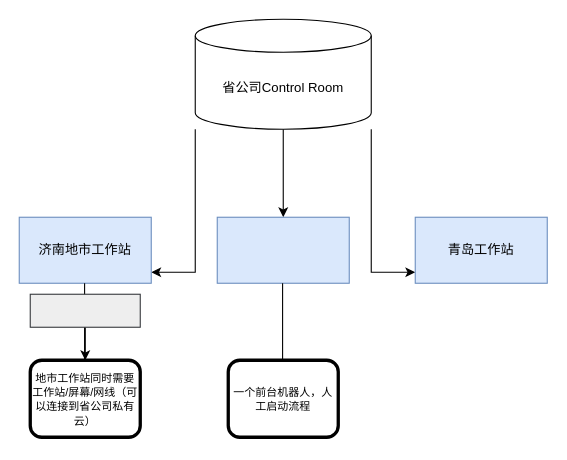
Image size: 567x460. Some labels were removed from this diagram. Each missing label, with the box of its shape:
其他地市工作站: (216, 216, 349, 283)
开发/运行都在同一台主机上: (29, 293, 140, 327)
